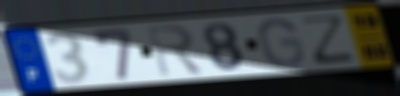3: (44, 29, 95, 86)
7: (89, 27, 134, 82)
8: (202, 22, 247, 72)
G: (256, 16, 308, 70)
R: (144, 23, 207, 79)
Z: (301, 12, 358, 66)
